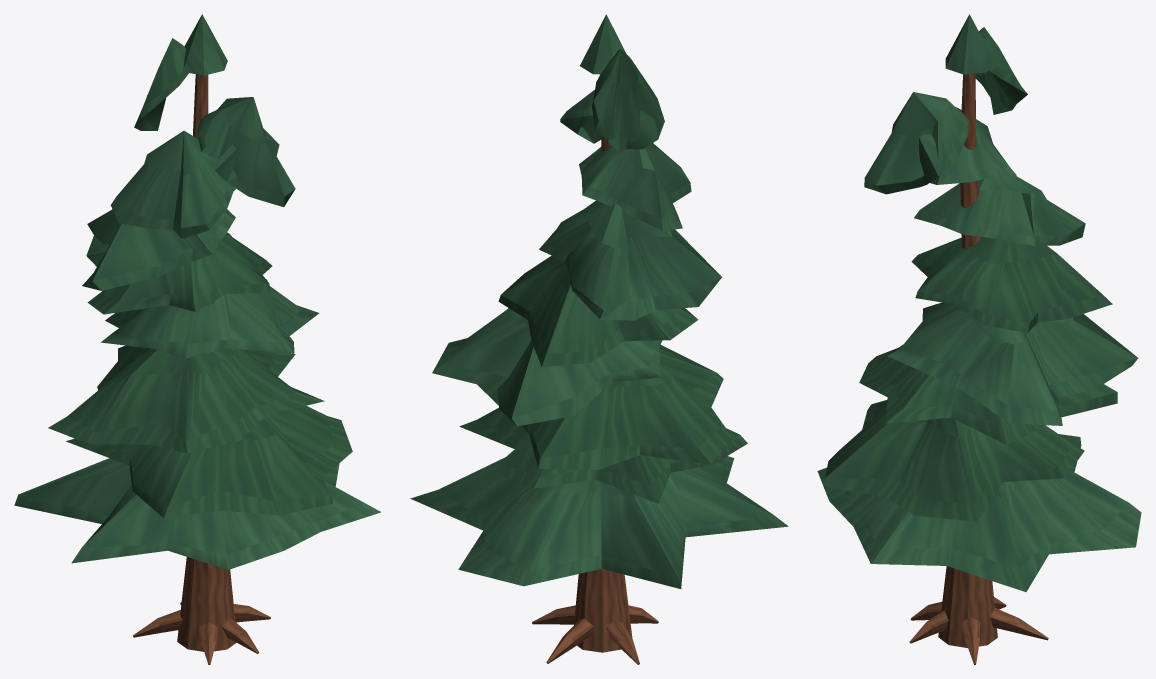
Rendered from SM_Tree_Pine_Large01.fbx.
3 renders of one model, left to right at view 1: azimuth 30°, elevation 25°; view 2: azimuth 150°, elevation 25°; view 3: azimuth 270°, elevation 25°, orthographic.
Parts seen in each view (by area): view 1: SM_Tree_Pine_Large01; view 2: SM_Tree_Pine_Large01; view 3: SM_Tree_Pine_Large01.
Part boxes in pixels (box(x1,y1,x2,y2)): SM_Tree_Pine_Large01: box(14, 14, 380, 664); SM_Tree_Pine_Large01: box(410, 14, 788, 664); SM_Tree_Pine_Large01: box(817, 14, 1141, 664).
Bounding box in the file's own units: 17.54 × 32.42 × 15.37.
Materials: 1 (1 with a texture image).
